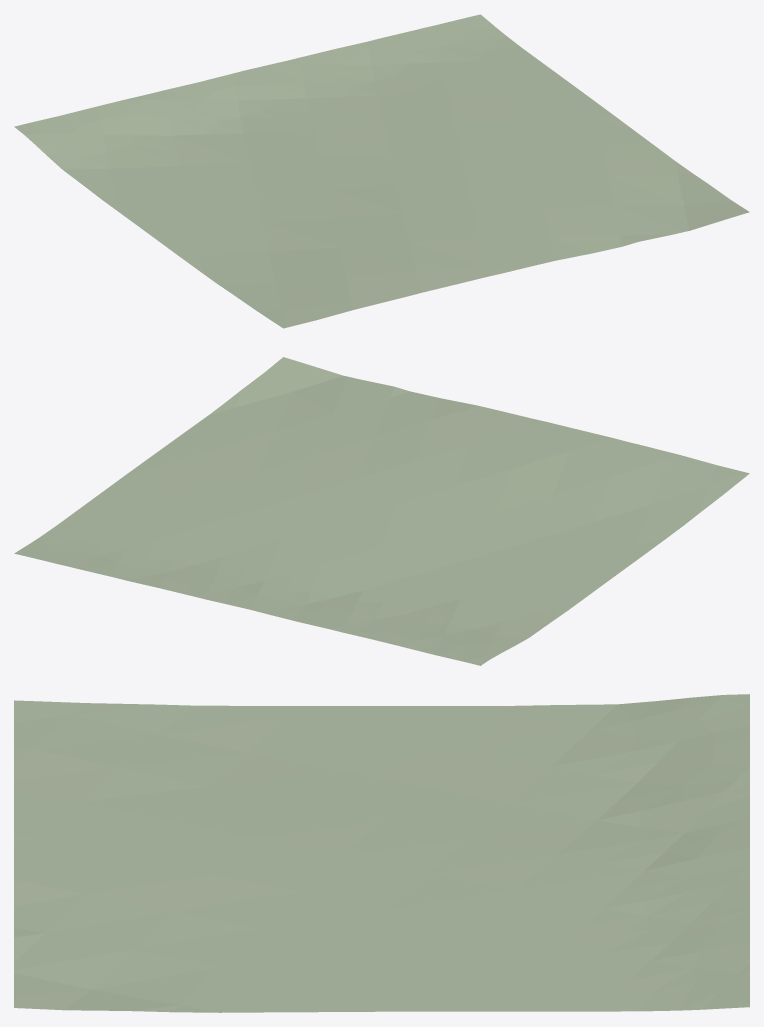
Rendered from SM_MPRR_Terrain_0_-2.fbx.
3 views of the same model, one above another, from view 1: azimuth 30°, elevation 25°; view 2: azimuth 150°, elevation 25°; view 3: azimuth 270°, elevation 25° (orthographic). The views are drawn at different scales.
Visible parts, largest first — view 1: SM_MPRR_Terrain_0_-2; view 2: SM_MPRR_Terrain_0_-2; view 3: SM_MPRR_Terrain_0_-2.
Part boxes in pixels (box(x1,y1,x2,y2)): SM_MPRR_Terrain_0_-2: box(14, 14, 749, 328); SM_MPRR_Terrain_0_-2: box(14, 357, 749, 665); SM_MPRR_Terrain_0_-2: box(14, 694, 749, 1012).
Size of the model in its own units: 15000 by 15000 by 270.
